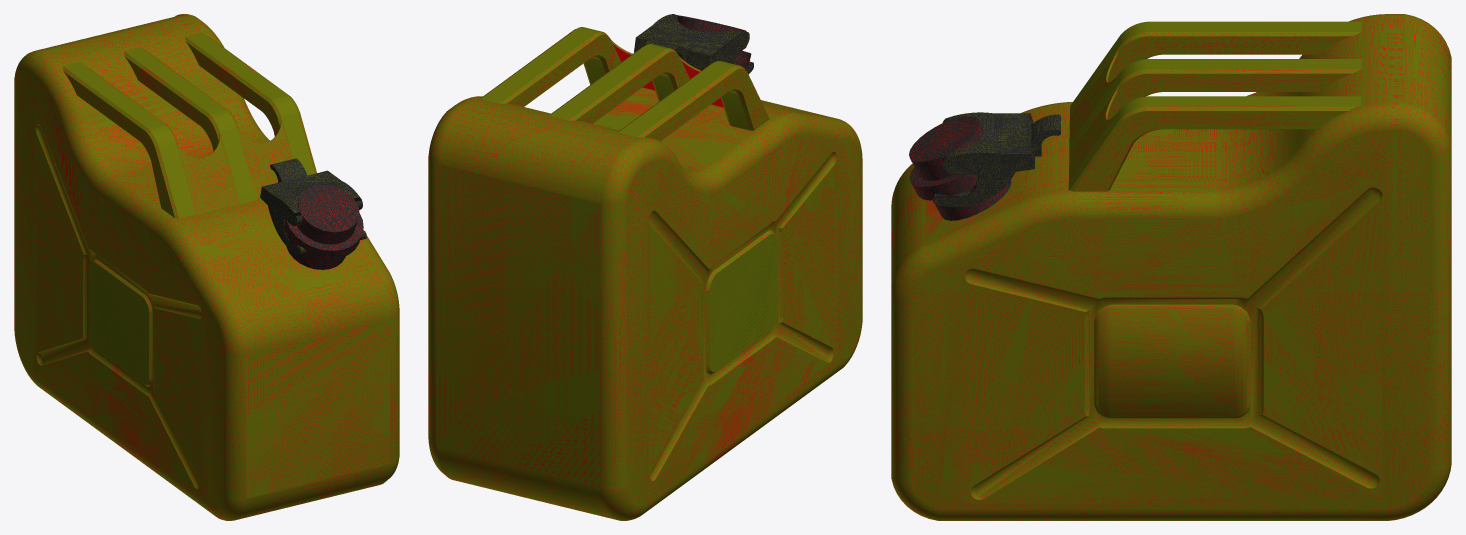
Rendered from Jerrycan.dae.
The picture shows the model from 3 angles, left to right: view 1: azimuth 30°, elevation 25°; view 2: azimuth 150°, elevation 25°; view 3: azimuth 270°, elevation 25°; orthographic projection. The views are drawn at different scales.
Visible parts, largest first — view 1: skp1EE5 (×16); view 2: skp1EE5 (×13); view 3: skp1EE5 (×15).
Part boxes in pixels (x1,y1,x2,y2): skp1EE5 (×16): (14,14,399,520); skp1EE5 (×13): (428,14,862,520); skp1EE5 (×15): (891,14,1451,520).
Size of the model in its own units: 6.38 by 14.14 by 11.61.
